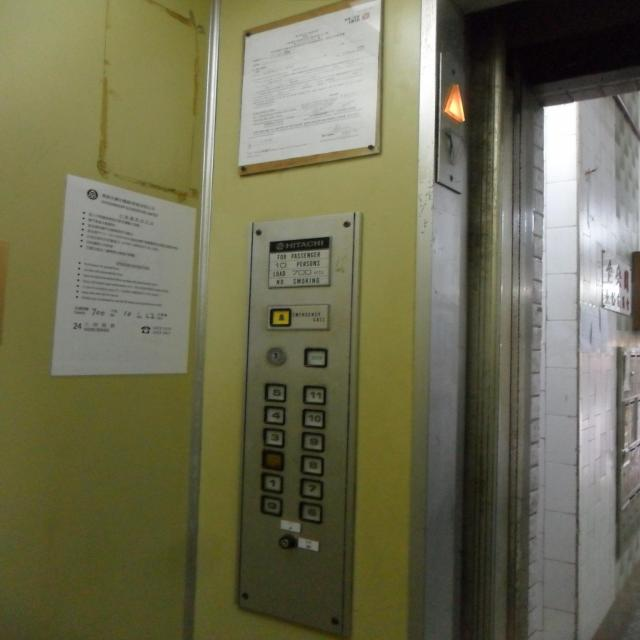1: (260, 472, 284, 492)
10: (302, 408, 325, 429)
11: (302, 385, 326, 405)
2: (262, 450, 284, 470)
3: (262, 428, 284, 447)
4: (263, 406, 285, 425)
5: (264, 382, 286, 402)
6: (298, 501, 322, 523)
7: (299, 478, 323, 500)
8: (300, 454, 323, 476)
9: (301, 432, 324, 452)
G: (259, 496, 282, 515)
alarm: (269, 307, 292, 327)
keyhole: (266, 348, 284, 365), (277, 534, 296, 549)
text_blur: (303, 347, 328, 368)
